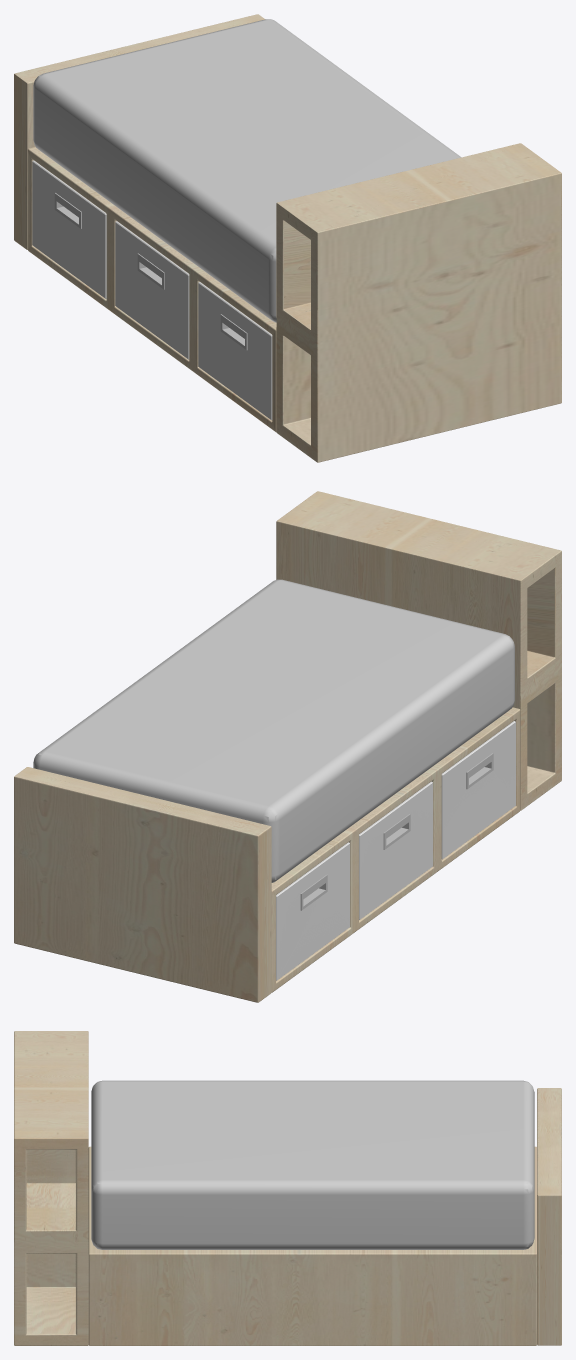
The model's file is bed_l.fbx.
3 renders of one model, top to bottom at view 1: azimuth 30°, elevation 25°; view 2: azimuth 150°, elevation 25°; view 3: azimuth 270°, elevation 25°, orthographic. The views are drawn at different scales.
Visible parts, largest first — view 1: polySurface41, polySurface43, polySurface53, polySurface46, polySurface45, polySurface47, polySurface51; view 2: polySurface43, polySurface51, polySurface41, polySurface53, polySurface45, polySurface46, polySurface47; view 3: polySurface43, polySurface53, polySurface41, polySurface51.
Boxes of the visible parts, x1,y1,x2,y2 form: polySurface41: [276, 143, 561, 462]; polySurface43: [33, 19, 461, 322]; polySurface53: [27, 147, 276, 431]; polySurface46: [32, 160, 106, 298]; polySurface45: [198, 282, 272, 420]; polySurface47: [115, 221, 189, 359]; polySurface51: [14, 14, 264, 249]; polySurface43: [33, 579, 514, 882]; polySurface51: [14, 767, 271, 1002]; polySurface41: [276, 491, 561, 810]; polySurface53: [271, 707, 520, 992]; polySurface45: [441, 721, 515, 859]; polySurface46: [276, 842, 349, 980]; polySurface47: [359, 781, 432, 919]; polySurface43: [91, 1080, 534, 1249]; polySurface53: [88, 1146, 536, 1345]; polySurface41: [14, 1031, 88, 1345]; polySurface51: [537, 1088, 561, 1345].
Bounding box in the file's own units: 10.04 × 9 × 21.5.
Materials: 4 (1 with a texture image).
